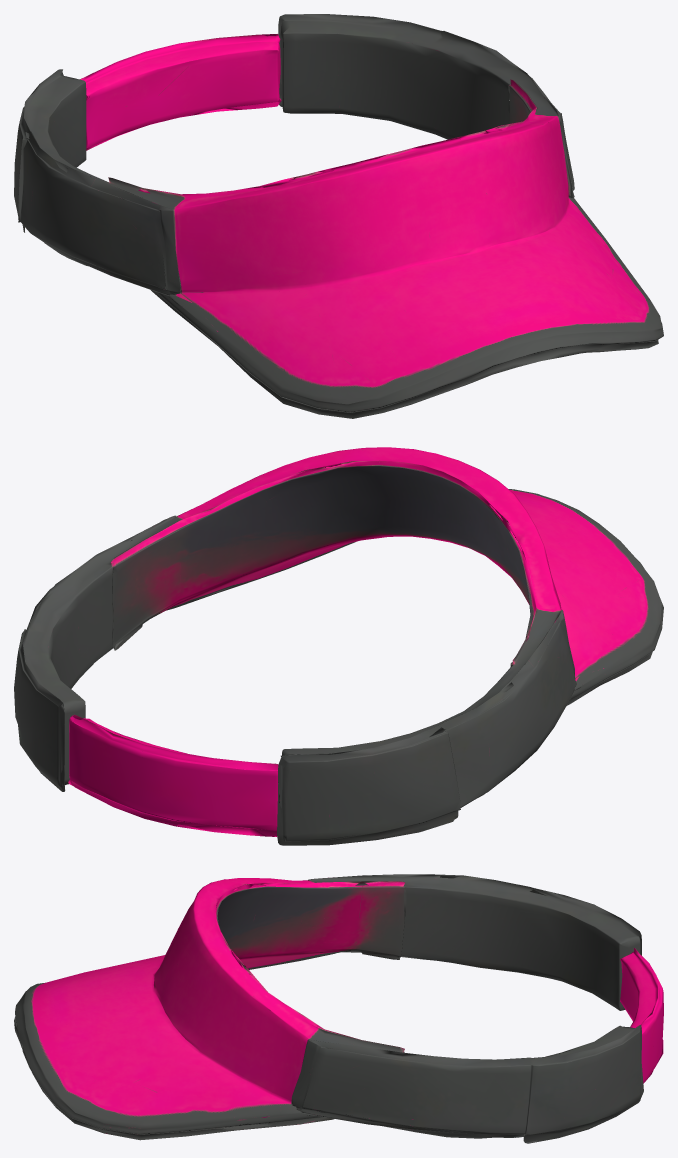
File: athletic_visor.glb
3 views of the same model, one above another, from view 1: azimuth 30°, elevation 25°; view 2: azimuth 150°, elevation 25°; view 3: azimuth 270°, elevation 25° (orthographic). The views are drawn at different scales.
Parts seen in each view (by area): view 1: geometry_0; view 2: geometry_0; view 3: geometry_0.
Boxes of the visible parts, box(x1,y1,x2,y2) form: geometry_0: box(14, 14, 663, 418); geometry_0: box(14, 447, 663, 845); geometry_0: box(14, 874, 663, 1143).
Size of the model in its own units: 0.6772 by 0.2529 by 0.9536.
1 material, 1 textured.
